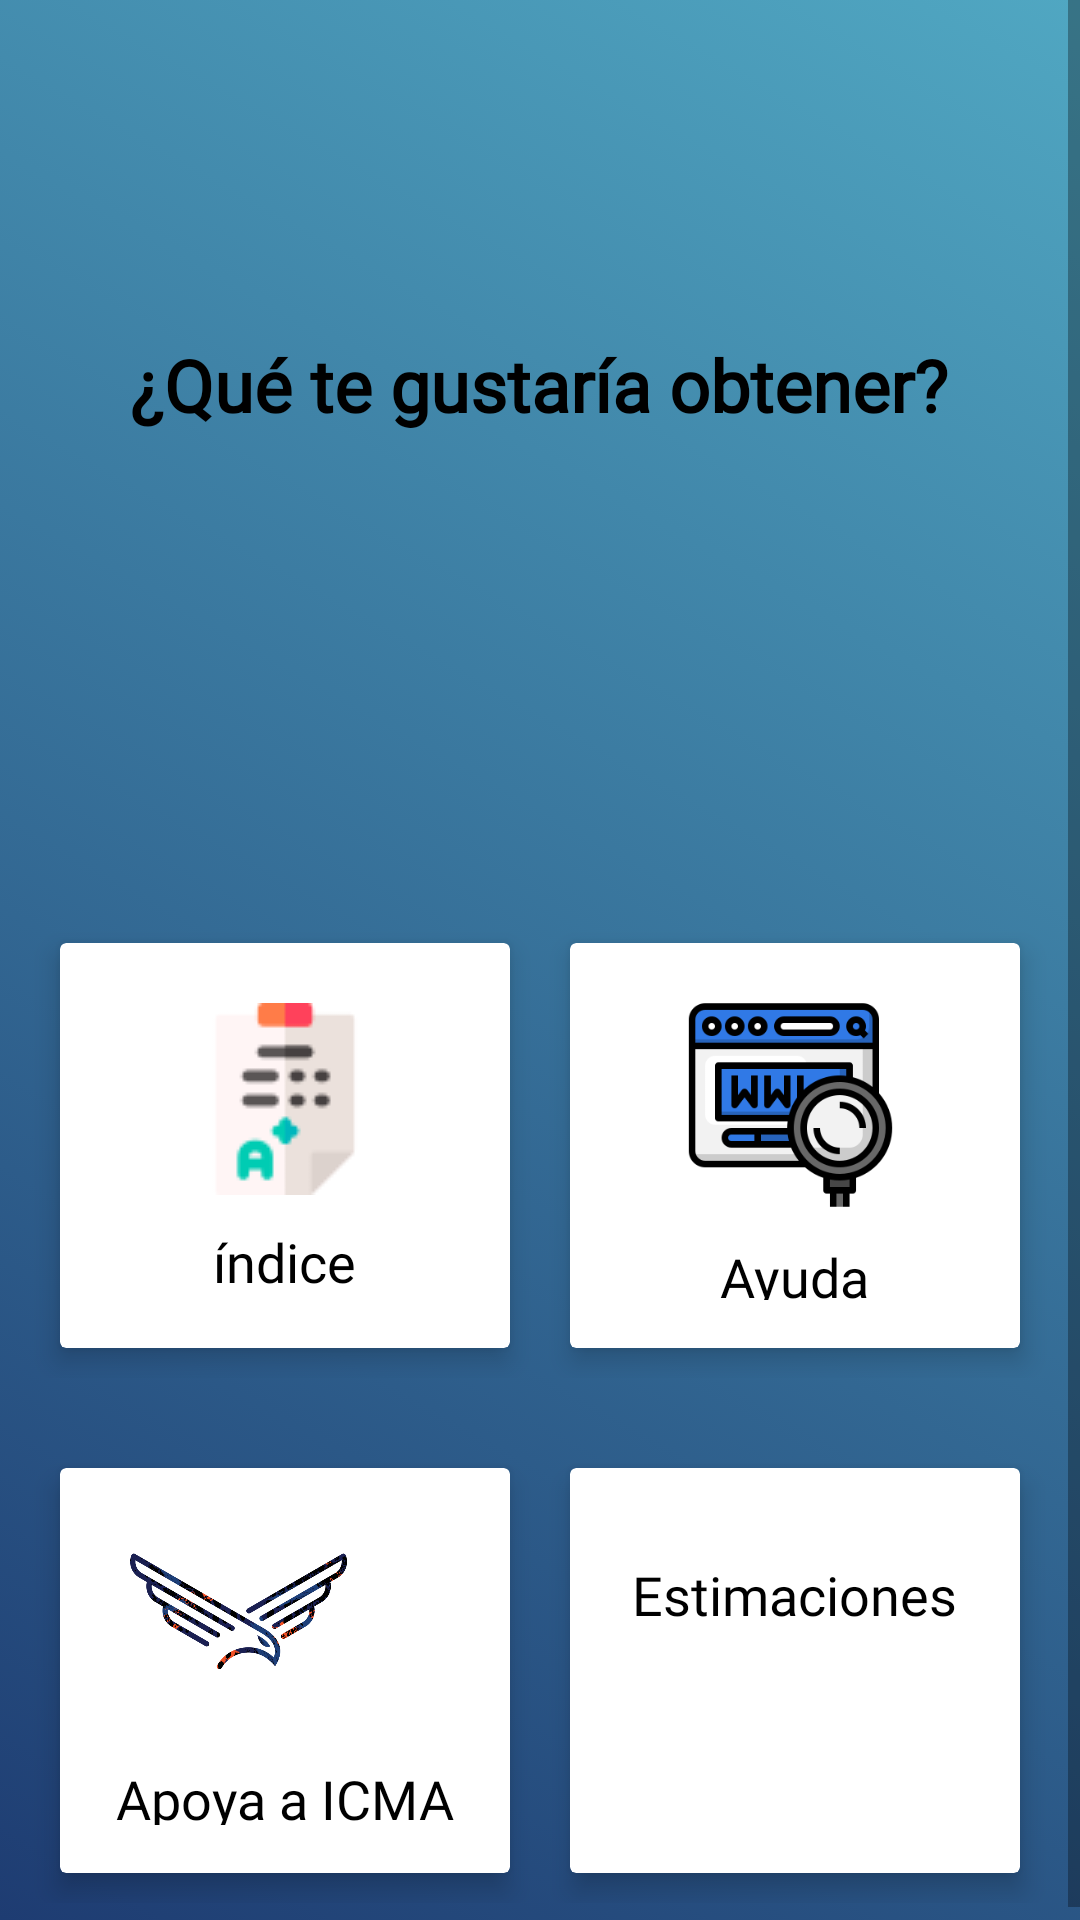

Where icons sit on this 1080 × 1920 app screen, as (x1, y1, x2, y2):
losgrado: (236, 1003, 354, 1195)
